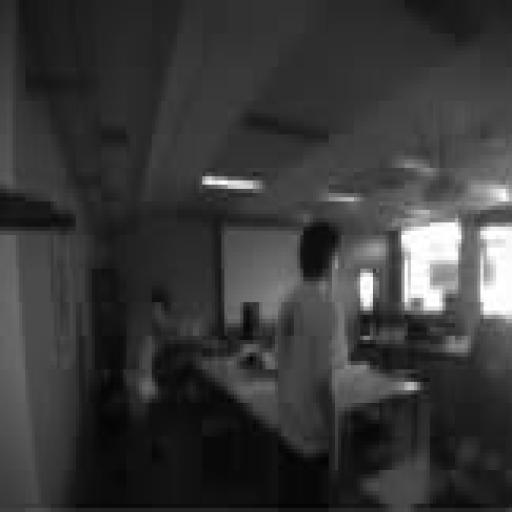human: (279, 223, 347, 507), (127, 286, 170, 457)
